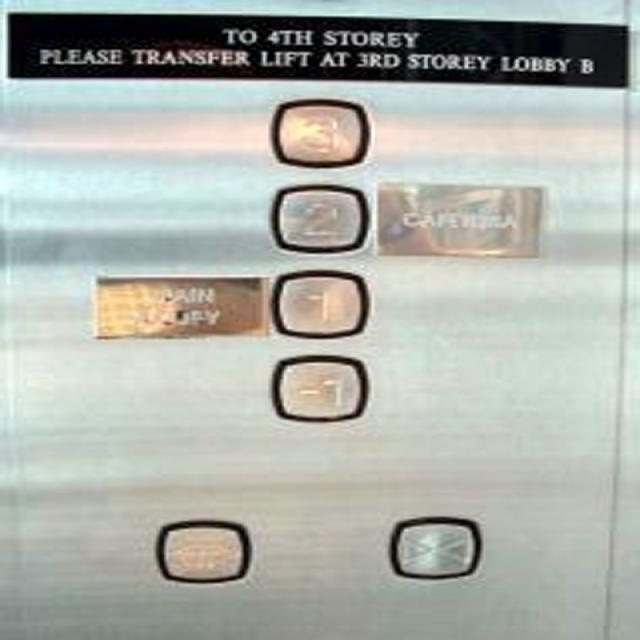-1: (266, 350, 374, 425)
1: (266, 266, 374, 340)
2: (266, 179, 374, 257)
3: (266, 95, 374, 171)
blur: (152, 514, 253, 588)
close: (384, 513, 484, 582)
